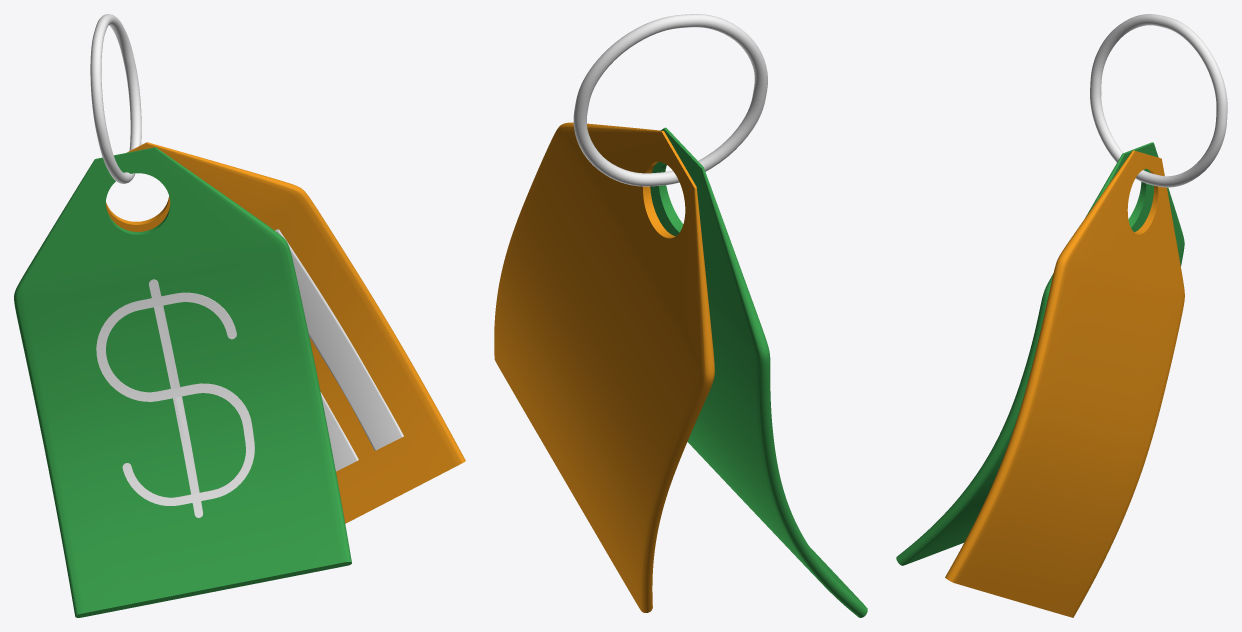
The model's file is price-tag-3d-animated-icon-1143856866042.glb.
3 renders of one model, left to right at view 1: azimuth 30°, elevation 25°; view 2: azimuth 150°, elevation 25°; view 3: azimuth 270°, elevation 25°, orthographic. The views are drawn at different scales.
Visible parts, largest first — view 1: NurbsPath, NurbsPath.001, NurbsCircle; view 2: NurbsPath.001, NurbsPath, NurbsCircle; view 3: NurbsPath.001, NurbsPath, NurbsCircle.
Boxes of the visible parts, left/top/right/bottom form: NurbsPath: left=14, top=147, right=351, bottom=617; NurbsPath.001: left=106, top=142, right=465, bottom=523; NurbsCircle: left=90, top=14, right=141, bottom=183; NurbsPath.001: left=494, top=122, right=714, bottom=612; NurbsPath: left=650, top=127, right=867, bottom=617; NurbsCircle: left=573, top=14, right=767, bottom=186; NurbsPath.001: left=945, top=150, right=1184, bottom=617; NurbsPath: left=896, top=142, right=1184, bottom=565; NurbsCircle: left=1090, top=14, right=1227, bottom=187.
Bounding box in the file's own units: 2.29 × 3.44 × 1.83.
